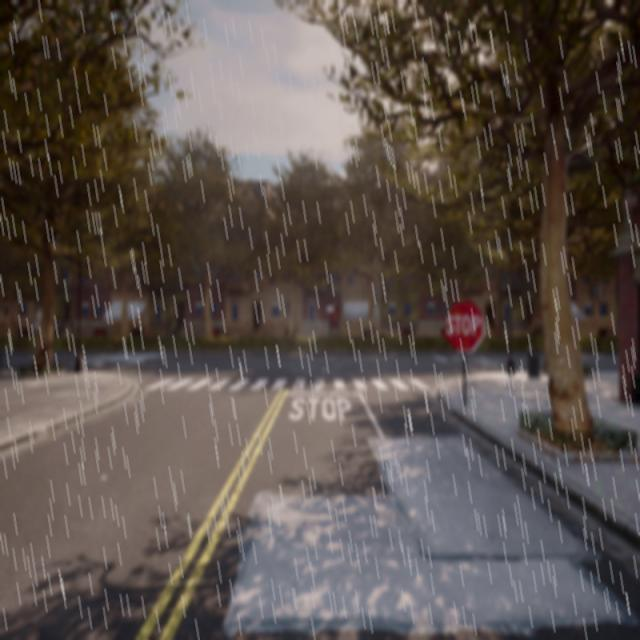stop sign: (441, 297, 487, 355)
